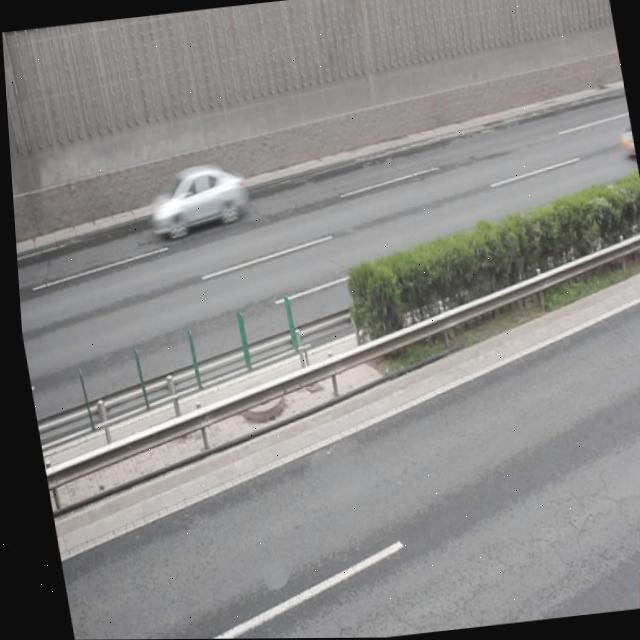car: (139, 160, 249, 236), (613, 115, 634, 159)
